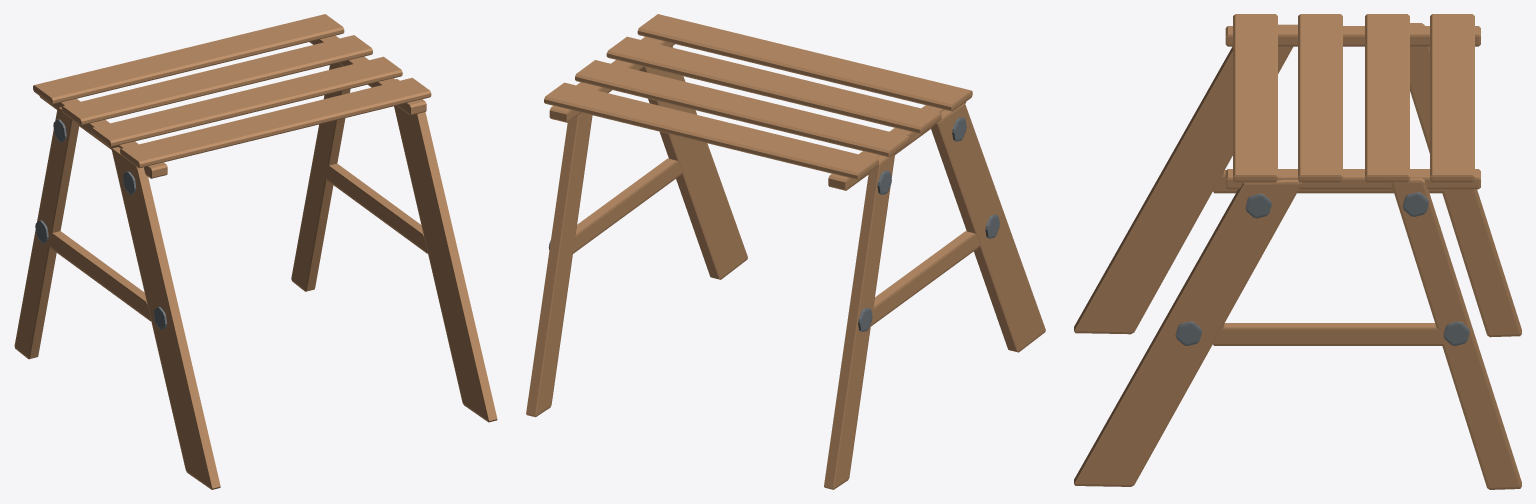
File: Step Ladder.fbx
3 renders of one model, left to right at view 1: azimuth 30°, elevation 25°; view 2: azimuth 150°, elevation 25°; view 3: azimuth 270°, elevation 25°, orthographic. The views are drawn at different scales.
Parts seen in each view (by area): view 1: Cylinder.003; view 2: Cylinder.003; view 3: Cylinder.003.
Boxes of the visible parts, x1=… form: Cylinder.003: x1=14, y1=14, x2=497, y2=489; Cylinder.003: x1=526, y1=14, x2=1045, y2=489; Cylinder.003: x1=1074, y1=14, x2=1521, y2=489.
Bounding box in the file's own units: 359 × 329 × 421.
